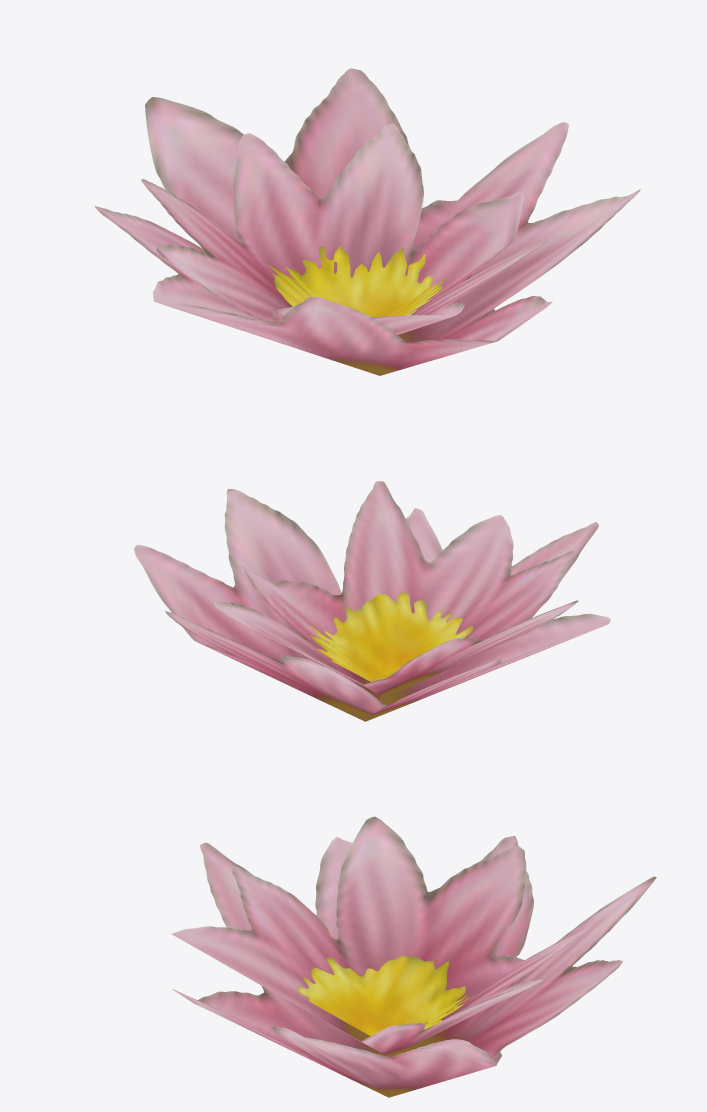
The model's file is SM_Water_Lily_B.fbx.
3 renders of one model, top to bottom at view 1: azimuth 30°, elevation 25°; view 2: azimuth 150°, elevation 25°; view 3: azimuth 270°, elevation 25°, orthographic. The views are drawn at different scales.
Parts seen in each view (by area): view 1: SM_Water_Lily_B; view 2: SM_Water_Lily_B; view 3: SM_Water_Lily_B.
Boxes of the visible parts, x1,y1,x2,y2 form: SM_Water_Lily_B: (94, 68, 640, 375); SM_Water_Lily_B: (134, 481, 610, 721); SM_Water_Lily_B: (171, 816, 656, 1097).
Size of the model in its own units: 15.36 by 15.65 by 4.92.
1 material, 1 textured.
